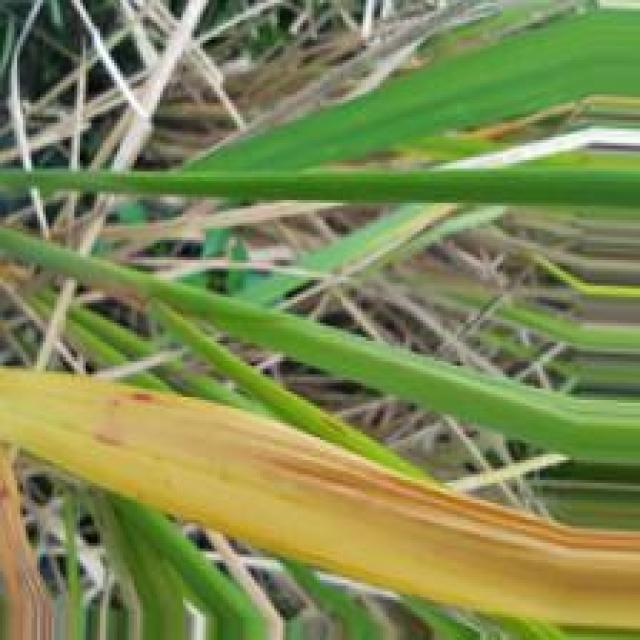Narrow_Brown_Leaf_Spot: (3, 357, 640, 632)
